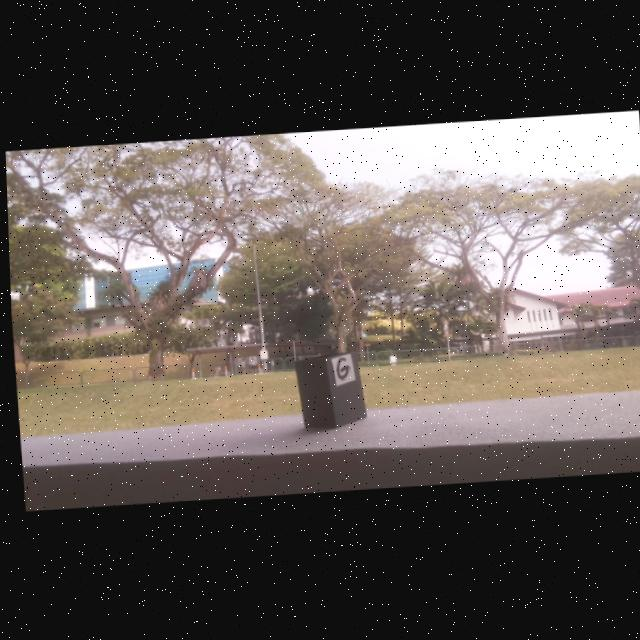G: (334, 359, 346, 381)
